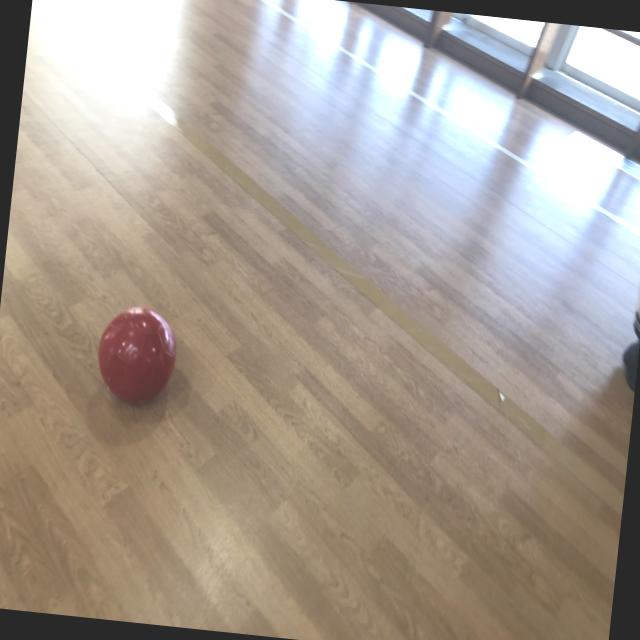red_ball: (96, 301, 182, 408)
